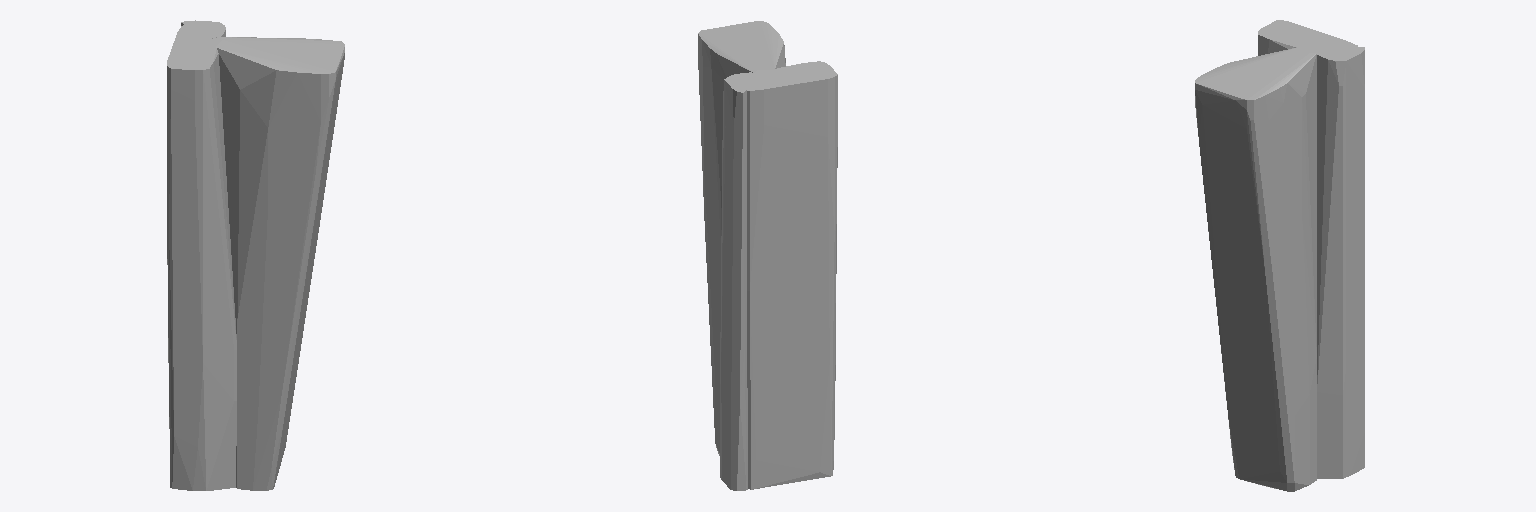
The robot description file, URDF, robot "root":
<robot name="root">
  <link name="link_471b51bcbbce70c22f81cb887dc35578_convex_piece_0">
    <inertial>
      <origin rpy="0 0 0" xyz="0 0 0"/>
      <mass value="1.83E-05"/>
      <inertia ixx="2.09E-08" ixy="-7.59E-10" ixz="-8.17E-11" iyy="2.32E-08" iyz="1.58E-10" izz="4.19E-09"/>
    </inertial>
    <visual>
      <origin rpy="0 0 0" xyz="0 0 0"/>
      <geometry>
        <mesh filename="471b51bcbbce70c22f81cb887dc35578_convex_piece_0.obj" scale="1.0000E+00"/>
      </geometry>
      <material name="">
        <color rgba="7.50E-01 7.50E-01 7.50E-01 1"/>
      </material>
    </visual>
    <collision>
      <origin rpy="0 0 0" xyz="0 0 0"/>
      <geometry>
        <mesh filename="471b51bcbbce70c22f81cb887dc35578_convex_piece_0.obj" scale="1.0000E+00"/>
      </geometry>
    </collision>
  </link>
  <link name="link_471b51bcbbce70c22f81cb887dc35578_convex_piece_1">
    <inertial>
      <origin rpy="0 0 0" xyz="0 0 0"/>
      <mass value="3.25E-05"/>
      <inertia ixx="3.69E-08" ixy="-6.89E-10" ixz="3.06E-09" iyy="3.69E-08" iyz="-2.57E-09" izz="3.24E-09"/>
    </inertial>
    <visual>
      <origin rpy="0 0 0" xyz="0 0 0"/>
      <geometry>
        <mesh filename="471b51bcbbce70c22f81cb887dc35578_convex_piece_1.obj" scale="1.0000E+00"/>
      </geometry>
      <material name="">
        <color rgba="7.50E-01 7.50E-01 7.50E-01 1"/>
      </material>
    </visual>
    <collision>
      <origin rpy="0 0 0" xyz="0 0 0"/>
      <geometry>
        <mesh filename="471b51bcbbce70c22f81cb887dc35578_convex_piece_1.obj" scale="1.0000E+00"/>
      </geometry>
    </collision>
  </link>
  <joint name="link_471b51bcbbce70c22f81cb887dc35578_convex_piece_1_joint" type="fixed">
    <origin rpy="0 0 0" xyz="0 0 0"/>
    <parent link="link_471b51bcbbce70c22f81cb887dc35578_convex_piece_0"/>
    <child link="link_471b51bcbbce70c22f81cb887dc35578_convex_piece_1"/>
  </joint>
  <link name="link_471b51bcbbce70c22f81cb887dc35578_convex_piece_2">
    <inertial>
      <origin rpy="0 0 0" xyz="0 0 0"/>
      <mass value="7.48E-06"/>
      <inertia ixx="9.80E-09" ixy="-2.80E-10" ixz="3.01E-11" iyy="8.18E-09" iyz="-2.26E-10" izz="1.75E-09"/>
    </inertial>
    <visual>
      <origin rpy="0 0 0" xyz="0 0 0"/>
      <geometry>
        <mesh filename="471b51bcbbce70c22f81cb887dc35578_convex_piece_2.obj" scale="1.0000E+00"/>
      </geometry>
      <material name="">
        <color rgba="7.50E-01 7.50E-01 7.50E-01 1"/>
      </material>
    </visual>
    <collision>
      <origin rpy="0 0 0" xyz="0 0 0"/>
      <geometry>
        <mesh filename="471b51bcbbce70c22f81cb887dc35578_convex_piece_2.obj" scale="1.0000E+00"/>
      </geometry>
    </collision>
  </link>
  <joint name="link_471b51bcbbce70c22f81cb887dc35578_convex_piece_2_joint" type="fixed">
    <origin rpy="0 0 0" xyz="0 0 0"/>
    <parent link="link_471b51bcbbce70c22f81cb887dc35578_convex_piece_1"/>
    <child link="link_471b51bcbbce70c22f81cb887dc35578_convex_piece_2"/>
  </joint>
</robot>

--- What the picture shows (computed from the rendered views, not written in the file) ---
The picture shows the robot from 3 angles, left to right: view 1: azimuth 30°, elevation 25°; view 2: azimuth 150°, elevation 25°; view 3: azimuth 270°, elevation 25°; orthographic projection.
Model root with 3 links and 2 joints (2 fixed), rooted at link_471b51bcbbce70c22f81cb887dc35578_convex_piece_0, posed every joint at zero.
Visible links, largest first — view 1: link_471b51bcbbce70c22f81cb887dc35578_convex_piece_1, link_471b51bcbbce70c22f81cb887dc35578_convex_piece_0, link_471b51bcbbce70c22f81cb887dc35578_convex_piece_2; view 2: link_471b51bcbbce70c22f81cb887dc35578_convex_piece_0, link_471b51bcbbce70c22f81cb887dc35578_convex_piece_2, link_471b51bcbbce70c22f81cb887dc35578_convex_piece_1; view 3: link_471b51bcbbce70c22f81cb887dc35578_convex_piece_1, link_471b51bcbbce70c22f81cb887dc35578_convex_piece_2, link_471b51bcbbce70c22f81cb887dc35578_convex_piece_0.
Link boxes in pixels (<box>): link_471b51bcbbce70c22f81cb887dc35578_convex_piece_1: <box>206,37,344,490</box>; link_471b51bcbbce70c22f81cb887dc35578_convex_piece_0: <box>167,25,236,490</box>; link_471b51bcbbce70c22f81cb887dc35578_convex_piece_2: <box>181,20,225,39</box>; link_471b51bcbbce70c22f81cb887dc35578_convex_piece_0: <box>747,61,837,489</box>; link_471b51bcbbce70c22f81cb887dc35578_convex_piece_2: <box>720,72,765,490</box>; link_471b51bcbbce70c22f81cb887dc35578_convex_piece_1: <box>698,21,785,455</box>; link_471b51bcbbce70c22f81cb887dc35578_convex_piece_1: <box>1195,47,1316,491</box>; link_471b51bcbbce70c22f81cb887dc35578_convex_piece_2: <box>1317,47,1364,478</box>; link_471b51bcbbce70c22f81cb887dc35578_convex_piece_0: <box>1258,20,1357,55</box>.
Bounding box of the posed robot: 0.0458 × 0.043 × 0.1169 m (x, y, z).
Meshes: 3 distinct files referenced, 3 mesh visuals loaded (3 OBJ).